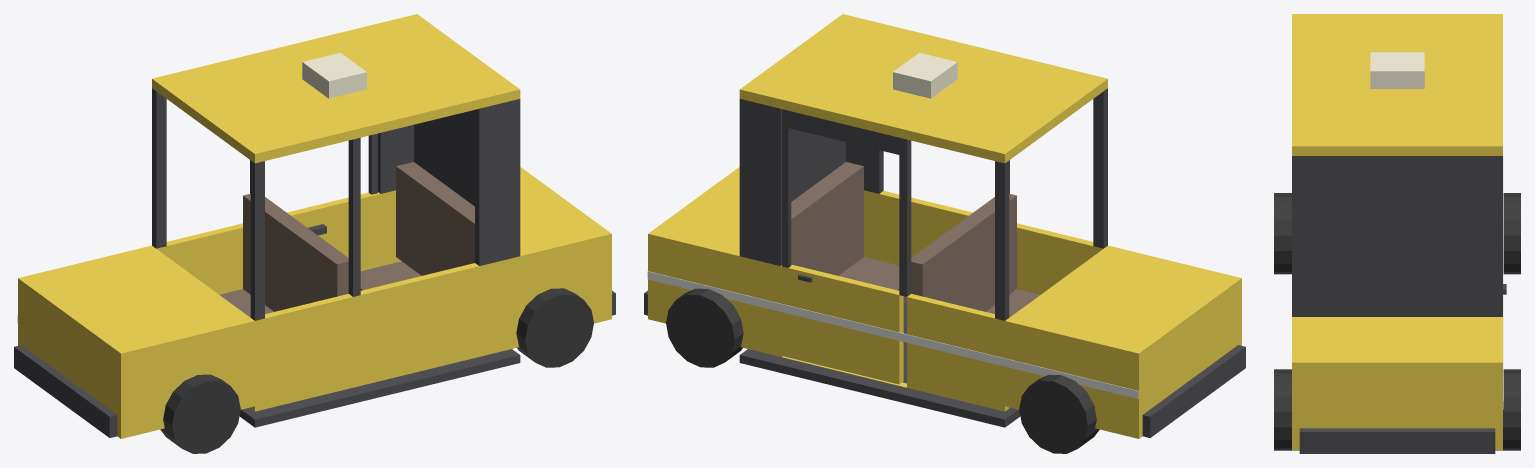
The model's file is Taxi.glb.
3 renders of one model, left to right at view 1: azimuth 30°, elevation 25°; view 2: azimuth 150°, elevation 25°; view 3: azimuth 270°, elevation 25°, orthographic. The views are drawn at different scales.
Visible parts, largest first — view 1: Taxi_Bonnet, Taxi_Roof, Taxi_SideL, Taxi_Boot, Taxi_FrontBack, Taxi_RearBack, Taxi_Pillar.005, Taxi_RearWall, Taxi_Wheel.001, Taxi_Wheel.003, Taxi_Floor, Taxi_FrontDoor (+10 smaller); view 2: Taxi_Roof, Taxi_Bonnet, Taxi_DoorPanel, Taxi_Boot, Taxi_FrontDoor, Taxi_SideL, Taxi_FrontBack, Taxi_Pillar.004, Taxi_RearBack, Taxi_Floor, Taxi_Wheel, Taxi_Wheel.002 (+14 smaller); view 3: Taxi_RearWall, Taxi_Roof, Taxi_Boot, Taxi_BumperR, Taxi_Sign, Taxi_Wheel.002, Taxi_Wheel.003, Taxi_Wheel.001, Taxi_Wheel, Taxi_Pillar.004, Taxi_Pillar.005.
Part boxes in pixels (box(x1,y1,x2,y2)): Taxi_Bonnet: box(18, 245, 254, 438); Taxi_Roof: box(152, 14, 520, 163); Taxi_SideL: box(250, 256, 520, 411); Taxi_Boot: box(520, 167, 611, 323); Taxi_FrontBack: box(243, 193, 348, 311); Taxi_RearBack: box(396, 162, 474, 275); Taxi_Pillar.005: box(475, 99, 520, 265); Taxi_RearWall: box(414, 99, 520, 257); Taxi_Wheel.001: box(160, 374, 240, 453); Taxi_Wheel.003: box(516, 288, 593, 367); Taxi_Floor: box(239, 349, 520, 427); Taxi_FrontDoor: box(156, 223, 242, 294); Taxi_Roof: box(739, 14, 1107, 163); Taxi_Bonnet: box(1005, 245, 1241, 438); Taxi_DoorPanel: box(782, 264, 903, 384); Taxi_Boot: box(648, 167, 739, 323); Taxi_FrontDoor: box(907, 294, 1009, 411); Taxi_SideL: box(864, 190, 1103, 294); Taxi_FrontBack: box(911, 193, 1016, 311); Taxi_Pillar.004: box(739, 99, 781, 265); Taxi_RearBack: box(791, 162, 863, 275); Taxi_Floor: box(739, 301, 1020, 427); Taxi_Wheel: box(1019, 374, 1099, 453); Taxi_Wheel.002: box(666, 288, 743, 367); Taxi_RearWall: box(1292, 156, 1502, 316); Taxi_Roof: box(1292, 14, 1502, 155); Taxi_Boot: box(1292, 317, 1502, 450); Taxi_BumperR: box(1299, 428, 1495, 453); Taxi_Sign: box(1370, 52, 1424, 88); Taxi_Wheel.002: box(1495, 369, 1520, 450); Taxi_Wheel.003: box(1274, 369, 1299, 450); Taxi_Wheel.001: box(1274, 193, 1291, 274); Taxi_Wheel: box(1503, 193, 1520, 274); Taxi_Pillar.004: box(1494, 156, 1502, 316); Taxi_Pillar.005: box(1292, 156, 1300, 316).
Size of the model in its own units: 3.97 by 2.22 by 1.64.
